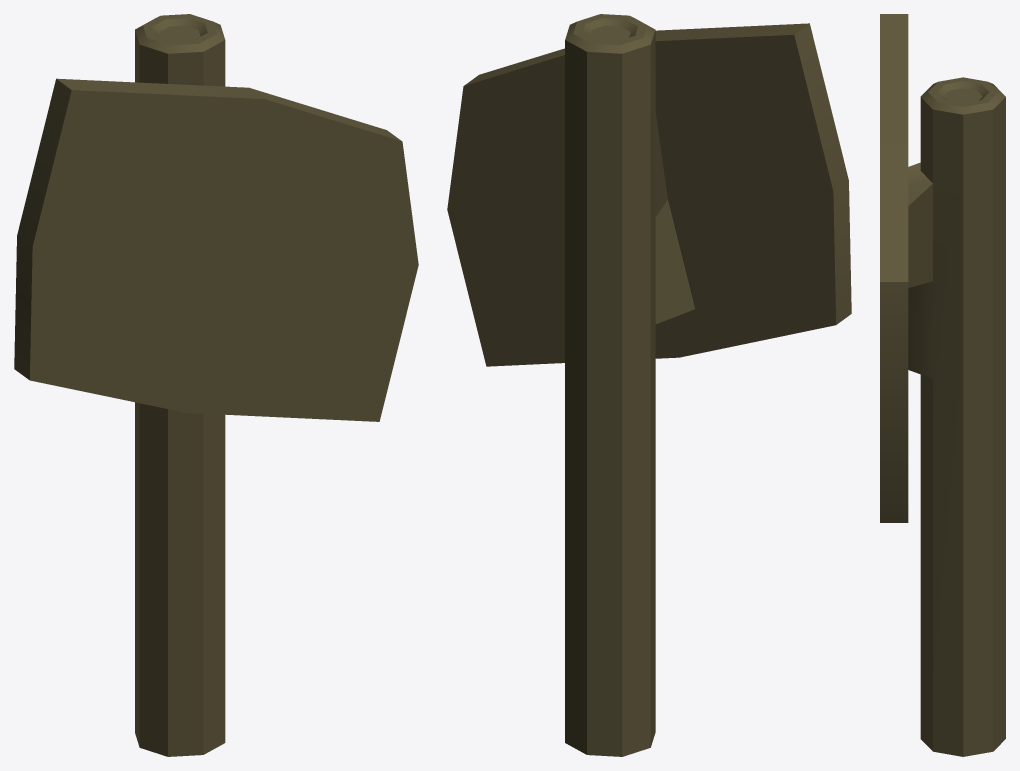
Rendered from Letrero salto y crouch.fbx.
3 renders of one model, left to right at view 1: azimuth 30°, elevation 25°; view 2: azimuth 150°, elevation 25°; view 3: azimuth 270°, elevation 25°, orthographic. The views are drawn at different scales.
Parts seen in each view (by area): view 1: Letrero_salto_y_crouch; view 2: Letrero_salto_y_crouch; view 3: Letrero_salto_y_crouch.
Boxes of the visible parts, left/top/right/bottom form: Letrero_salto_y_crouch: left=14, top=14, right=418, bottom=756; Letrero_salto_y_crouch: left=447, top=14, right=851, bottom=756; Letrero_salto_y_crouch: left=880, top=14, right=1005, bottom=756.
Bounding box in the file's own units: 1.68 × 2.97 × 0.5168.
